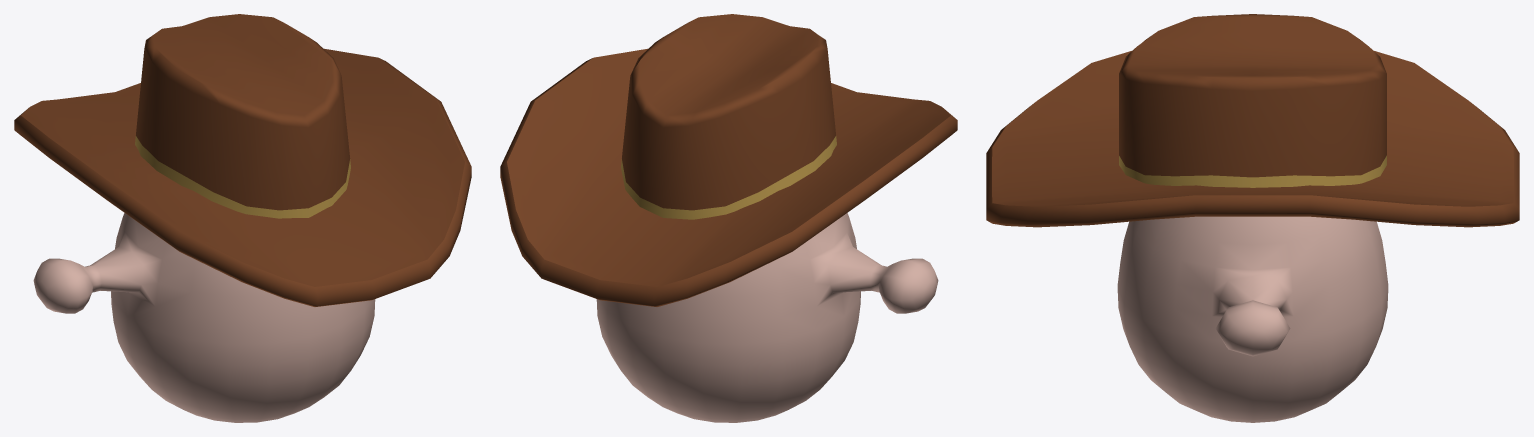
Rendered from CowBoy_01.fbx.
The picture shows the model from 3 angles, left to right: view 1: azimuth 30°, elevation 25°; view 2: azimuth 150°, elevation 25°; view 3: azimuth 270°, elevation 25°; orthographic projection.
Parts seen in each view (by area): view 1: polySurface4; view 2: polySurface4; view 3: polySurface4.
Boxes of the visible parts, x1,y1,x2,y2 form: polySurface4: [14, 14, 471, 422]; polySurface4: [500, 14, 957, 422]; polySurface4: [986, 14, 1519, 422].
Bounding box in the file's own units: 89.19 × 74.81 × 99.81.
